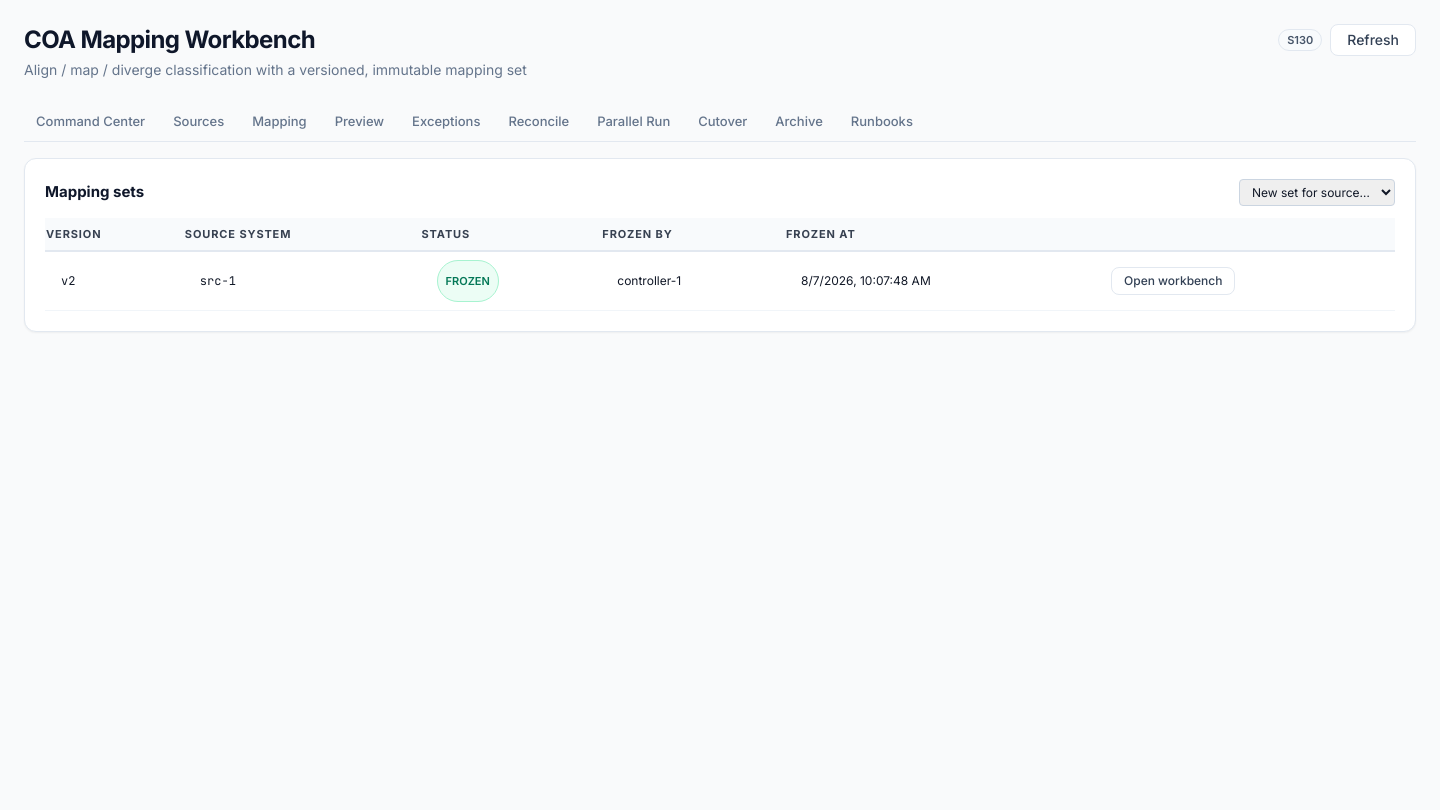
Test: MigrationMapping › presents a frozen mapping set as immutable
The image size is (1440, 810).
Click the button with test id "mapping-set-open-ms-1".
click(1173, 281)  # box [1111, 267, 1236, 295]
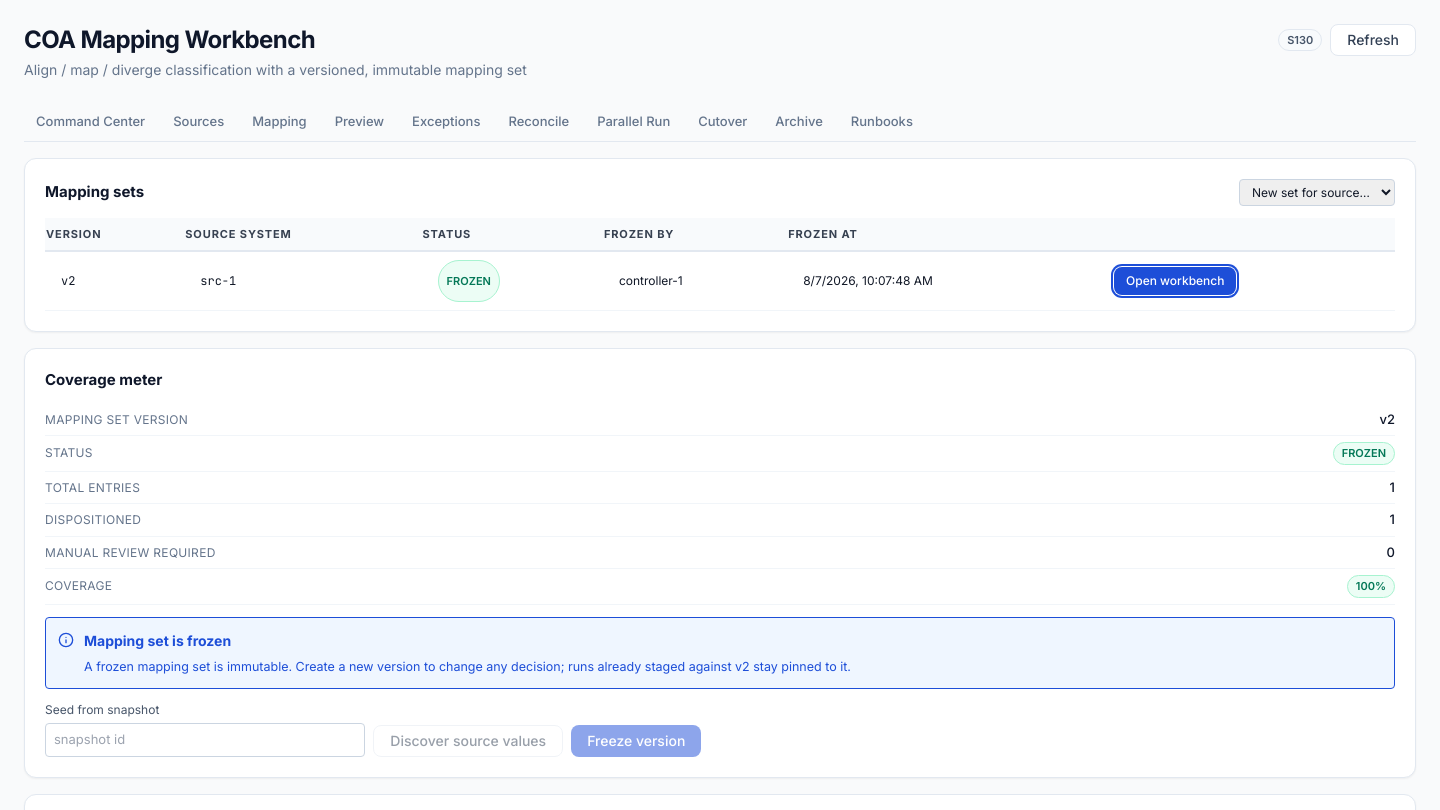
Expected: the element with test id "mapping-frozen-banner" is shown, [45, 616, 1395, 689]
Expected: the button with test id "freeze-mapping-btn" is disabled, [571, 725, 701, 757]
